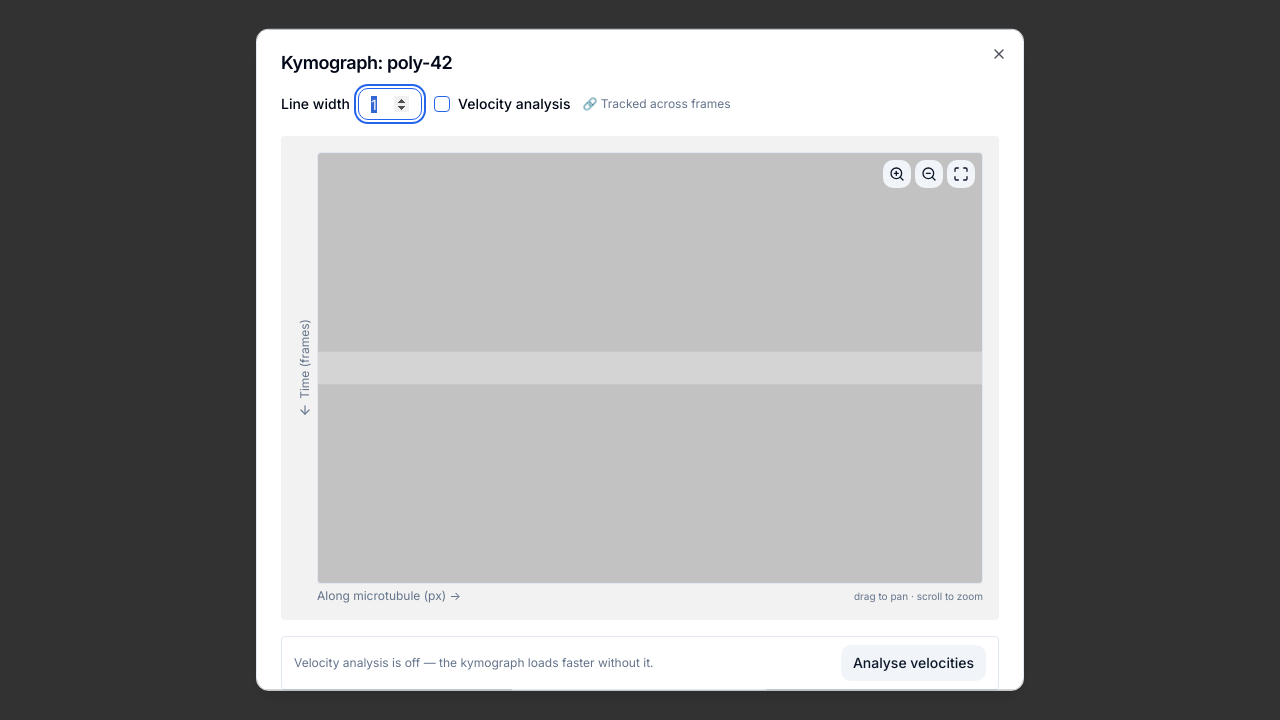
Test case: KymographModal › Refetch scope › keeps the kymograph and its downloads when the velocity pass fails
Click the button "Analyse velocities": (913, 663) x1=841 y1=645 x2=986 y2=681
(page scrolled)
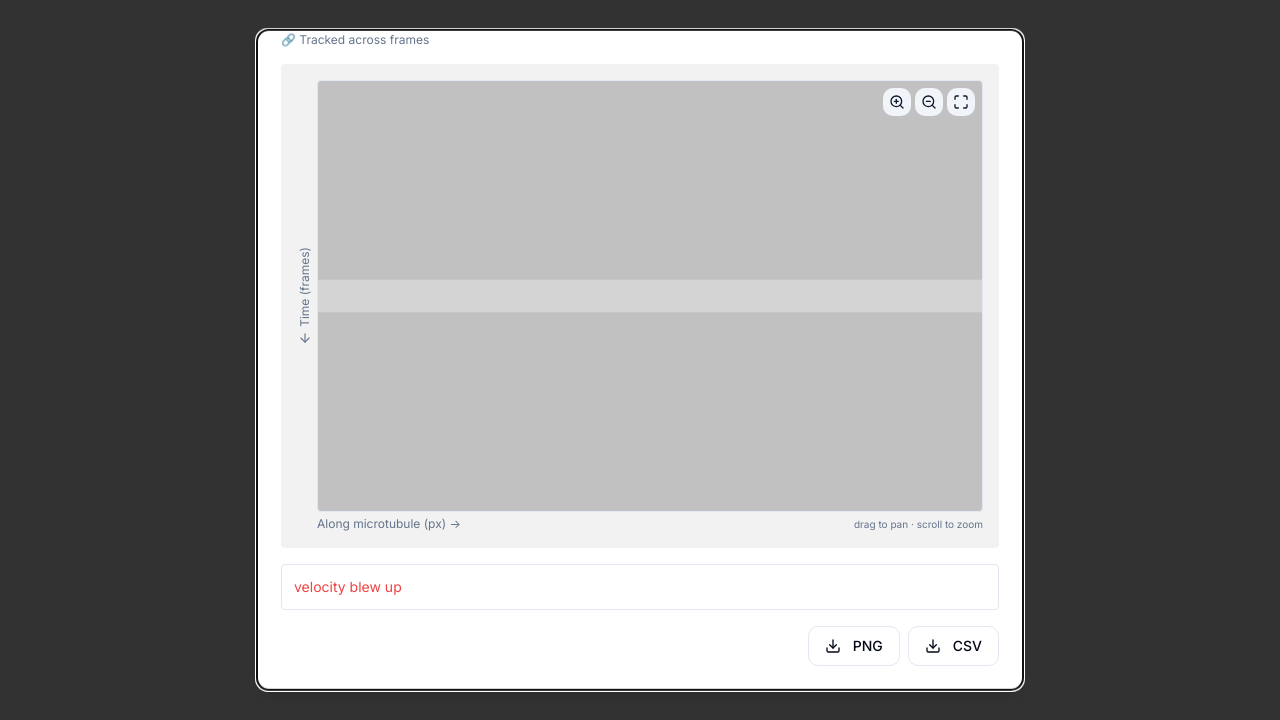
Now the text "velocity blew up" is shown, box x1=281 y1=564 x2=999 y2=610
Now the button "PNG" is enabled, box x1=808 y1=626 x2=900 y2=666
Now the button "CSV" is enabled, box x1=908 y1=626 x2=999 y2=666
